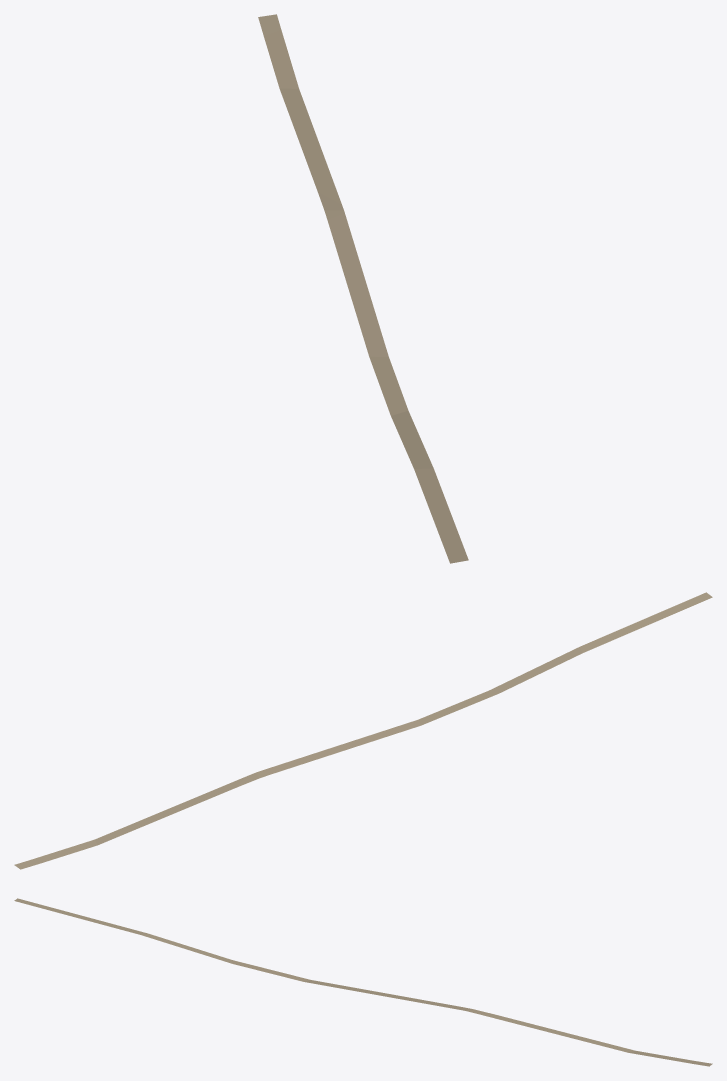
Rendered from farm_-31_-32_track.glb.
3 views of the same model, one above another, from view 1: azimuth 30°, elevation 25°; view 2: azimuth 150°, elevation 25°; view 3: azimuth 270°, elevation 25° (orthographic). The views are drawn at different scales.
Visible parts, largest first — view 1: geometry_0; view 2: geometry_0; view 3: geometry_0.
Part boxes in pixels (x1,y1,x2,y2): geometry_0: (258,14,468,563); geometry_0: (14,592,712,869); geometry_0: (14,898,712,1066).
Size of the model in its own units: 104 by 16.99 by 243.
